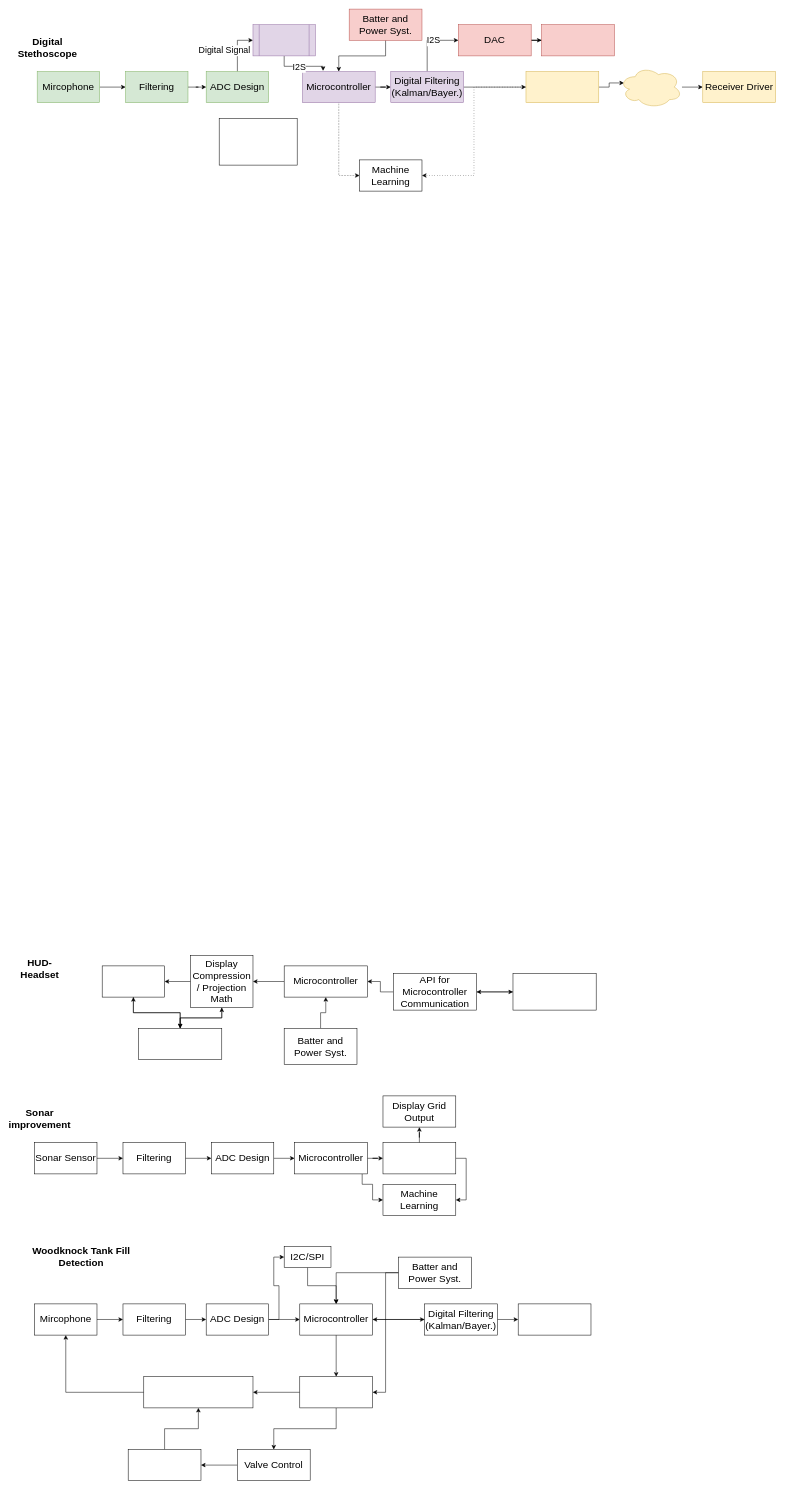
Image size: 785x1490. Some labels were removed from this diagram. The shapes that lost their labels are listed below. From the top down, each one's centre as x and y in pixels, then its label:
[283,40]: I2S CODEC
[577,40]: Speaker Feedback
[562,87]: .wav Data
[650,87]: WiFi
[258,141]: Small Formfactoring (Group Effort)
[133,981]: Display R&D
[554,991]: QUIC/TCP Data Transmission
[180,1044]: Helmet Design
[419,1158]: Bayernisian / Kalman Filtering
[554,1319]: Feedback Data
[198,1392]: Mechanical Knocker/Resonator
[336,1392]: Relay Control
[164,1465]: Tank Design Parameters
